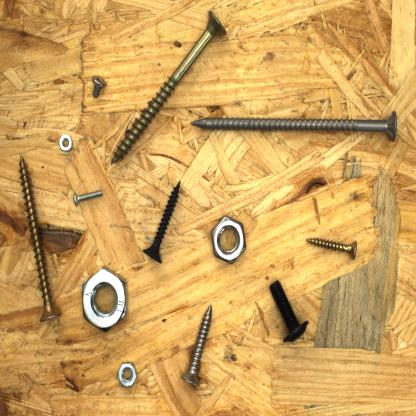screw: (108, 7, 230, 169), (16, 152, 64, 326), (188, 107, 401, 145), (140, 178, 184, 268), (266, 276, 312, 344), (181, 302, 216, 390), (304, 232, 361, 263), (68, 184, 108, 210), (90, 72, 107, 101)
